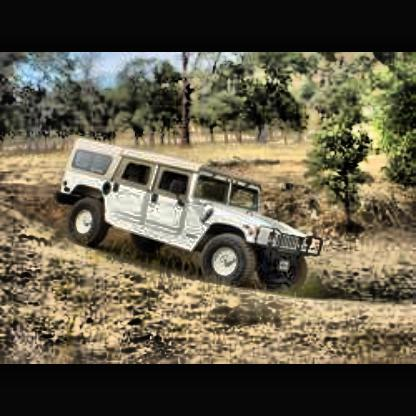AM General Hummer SUV 2000: (56, 135, 328, 301)
